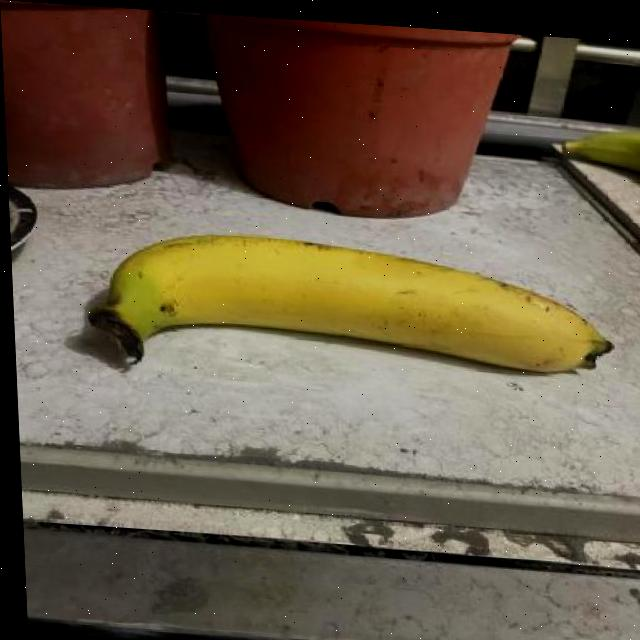banana: (76, 222, 619, 403)
